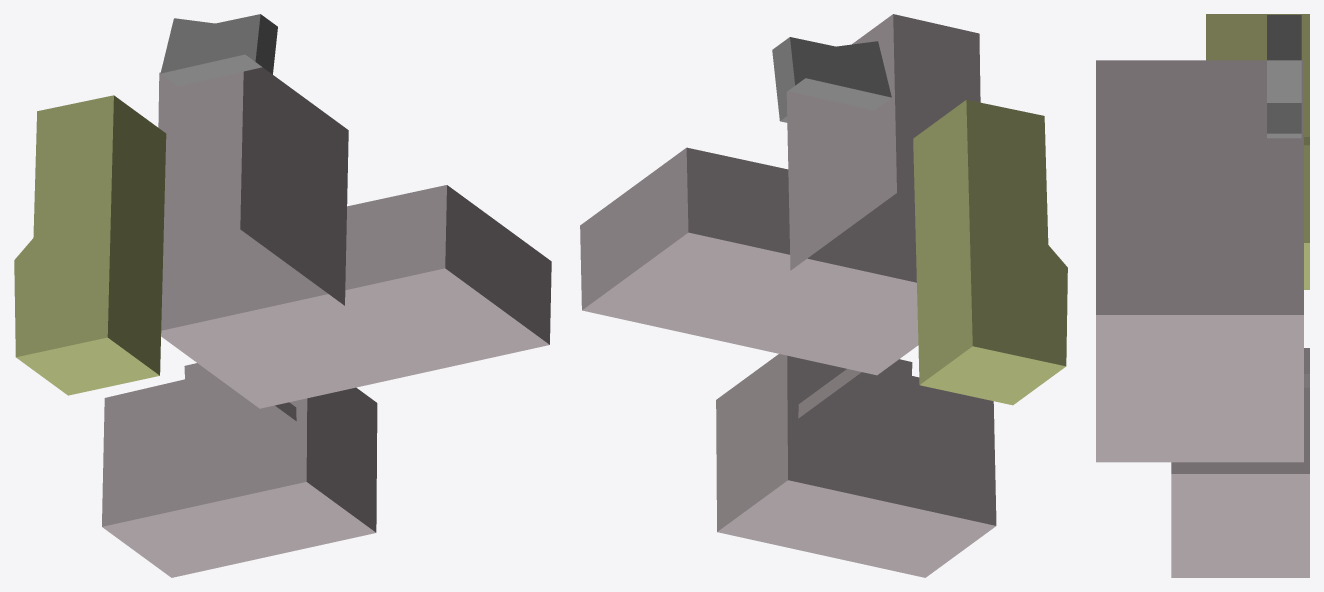
The picture shows the model from 3 angles, left to right: view 1: azimuth 30°, elevation 25°; view 2: azimuth 150°, elevation 25°; view 3: azimuth 270°, elevation 25°; orthographic projection. The views are drawn at different scales.
Visible parts, largest first — view 1: 0_1_0_0_2_2_1_2_2; view 2: 0_1_0_0_2_2_1_2_2; view 3: 0_1_0_0_2_2_1_2_2.
Part boxes in pixels (box(x1,y1,x2,y2)): 0_1_0_0_2_2_1_2_2: box(14, 14, 551, 577); 0_1_0_0_2_2_1_2_2: box(580, 14, 1067, 577); 0_1_0_0_2_2_1_2_2: box(1096, 14, 1309, 577).
Size of the model in its own units: 42.68 by 47.44 by 18.5.
